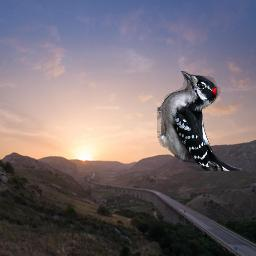Woodpecker: (157, 71, 242, 171)
